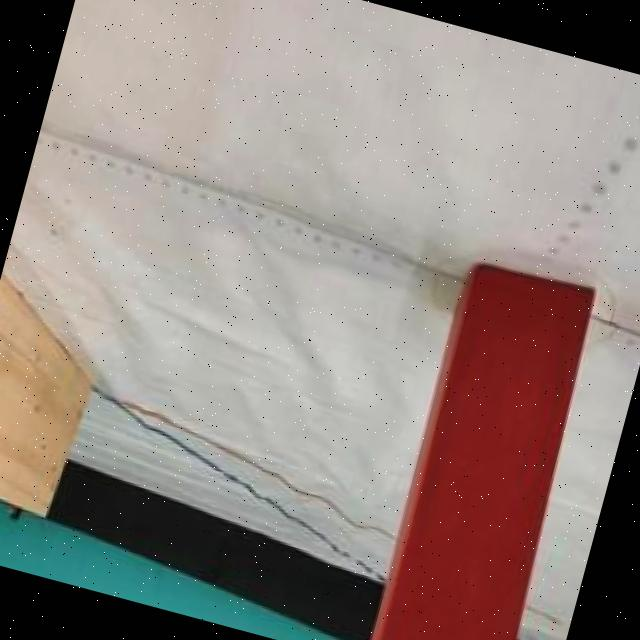redbox: (359, 258, 614, 640)
